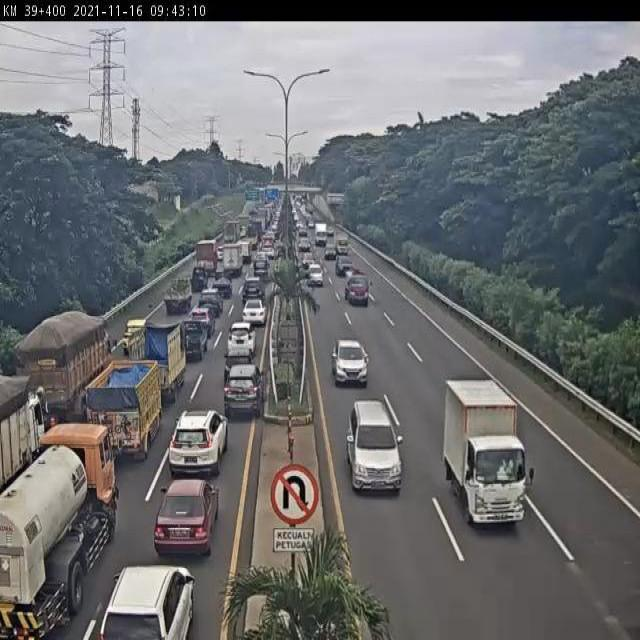car: (153, 478, 220, 558), (169, 410, 229, 478), (223, 364, 266, 420), (226, 322, 257, 358), (182, 319, 208, 361), (223, 348, 253, 383), (188, 307, 216, 337), (122, 320, 148, 349), (198, 288, 223, 315), (241, 299, 268, 324), (241, 277, 265, 303), (213, 270, 233, 298), (190, 265, 209, 291)
truck-m-: (0, 421, 117, 640), (12, 315, 110, 424), (0, 378, 45, 498)
truck-s-: (444, 380, 527, 527), (88, 359, 163, 461), (131, 324, 185, 401), (162, 279, 192, 312), (344, 273, 370, 307)
